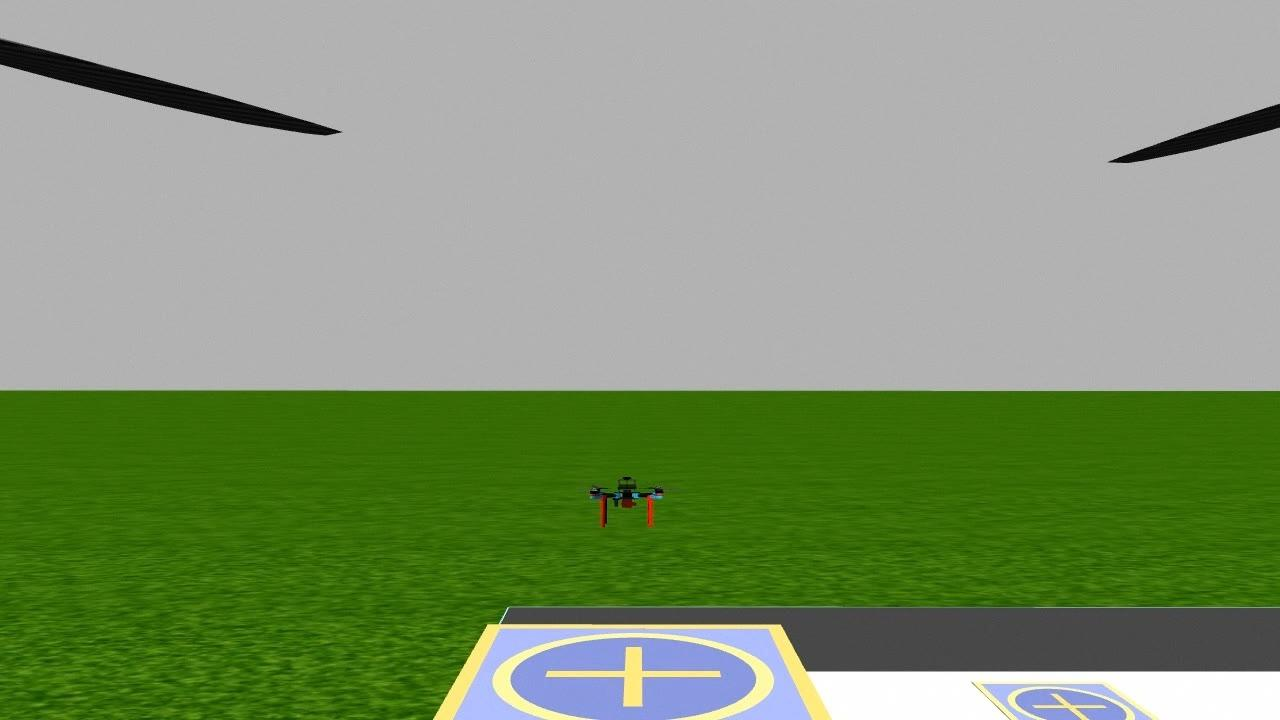UAV: (565, 466, 689, 538)
